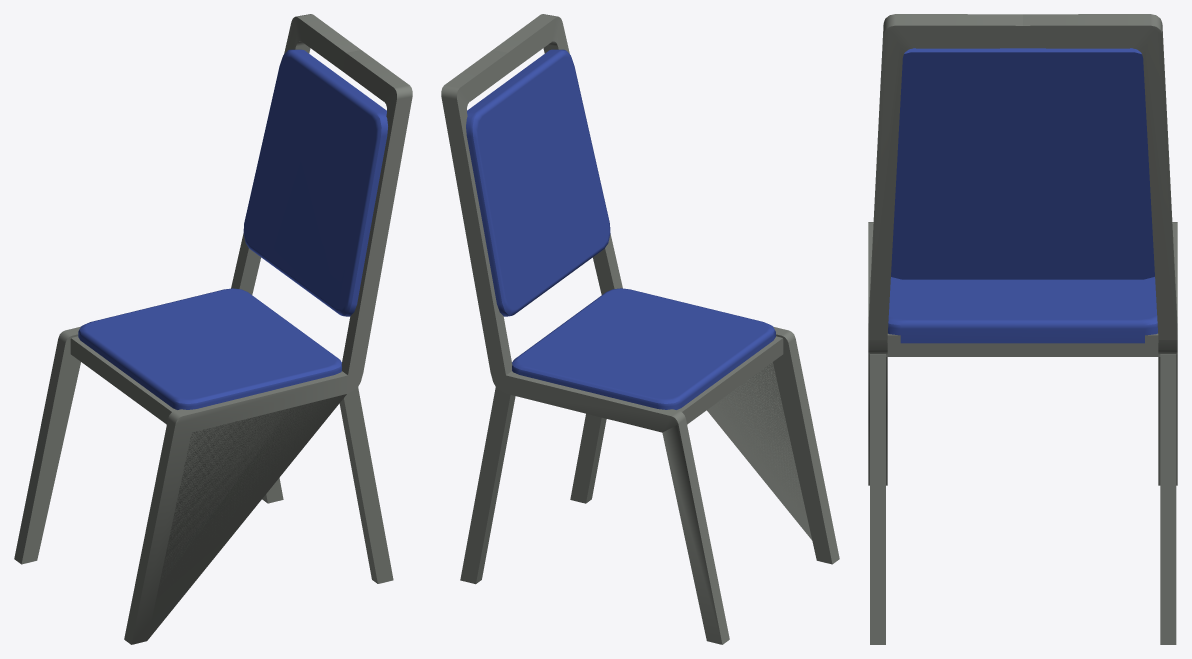
The model's file is blue chair.fbx.
The picture shows the model from 3 angles, left to right: view 1: azimuth 30°, elevation 25°; view 2: azimuth 150°, elevation 25°; view 3: azimuth 270°, elevation 25°; orthographic projection. The views are drawn at different scales.
Parts seen in each view (by area): view 1: pCube84; view 2: pCube84; view 3: pCube84.
Part boxes in pixels (x1,y1,x2,y2): pCube84: (14,14,412,644); pCube84: (441,14,839,644); pCube84: (868,14,1177,644).
Bounding box in the file's own units: 3.32 × 5.3 × 2.33.
